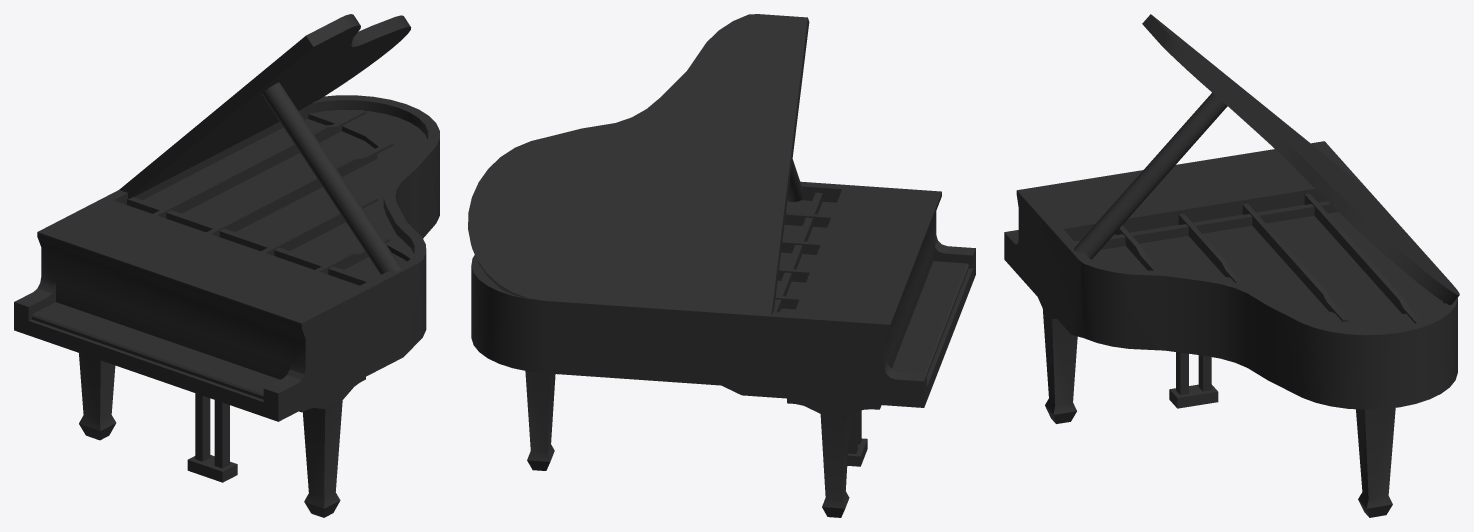
File: piano3d.glb
The picture shows the model from 3 angles, left to right: view 1: azimuth 30°, elevation 25°; view 2: azimuth 150°, elevation 25°; view 3: azimuth 270°, elevation 25°; orthographic projection. The views are drawn at different scales.
Parts seen in each view (by area): view 1: node_id30; view 2: node_id30; view 3: node_id30.
Boxes of the visible parts, x1,y1,x2,y2 form: node_id30: [14, 14, 439, 517]; node_id30: [468, 14, 975, 517]; node_id30: [1004, 14, 1459, 517].
Bounding box in the file's own units: 0.4968 × 0.4681 × 0.4596.
Materials: 1 (1 with a texture image).
